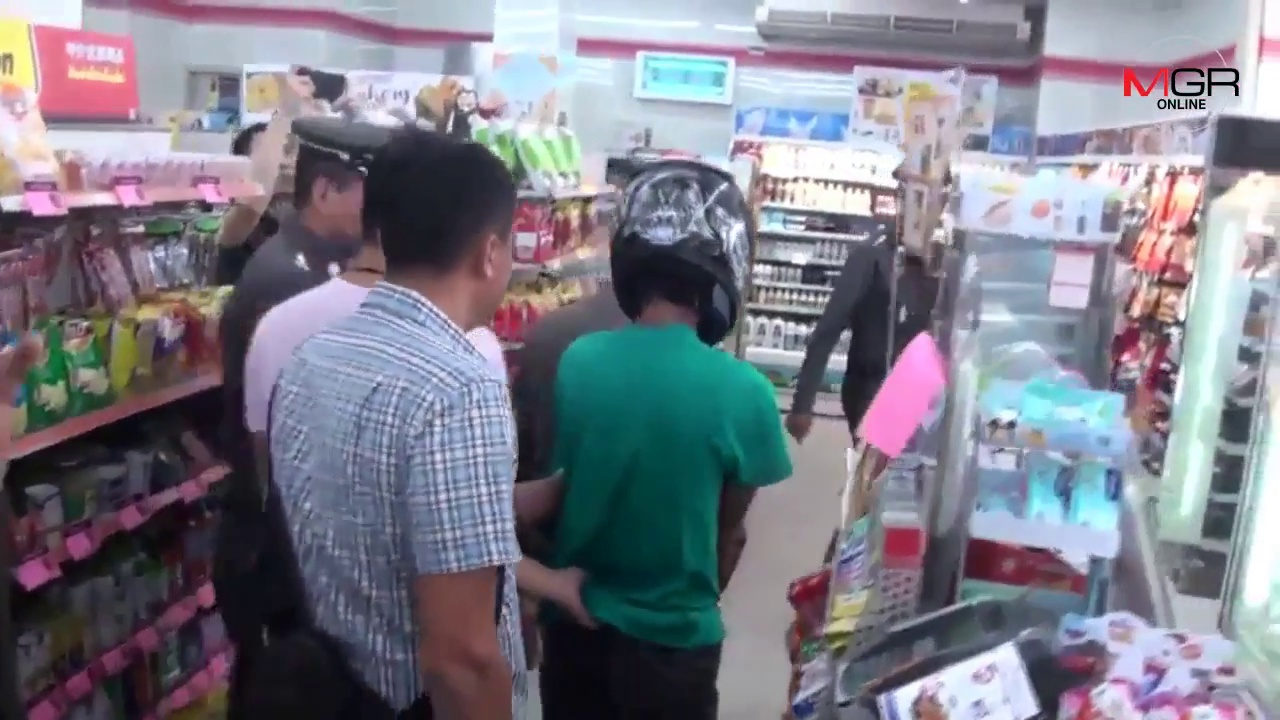helmet: (594, 167, 762, 330)
